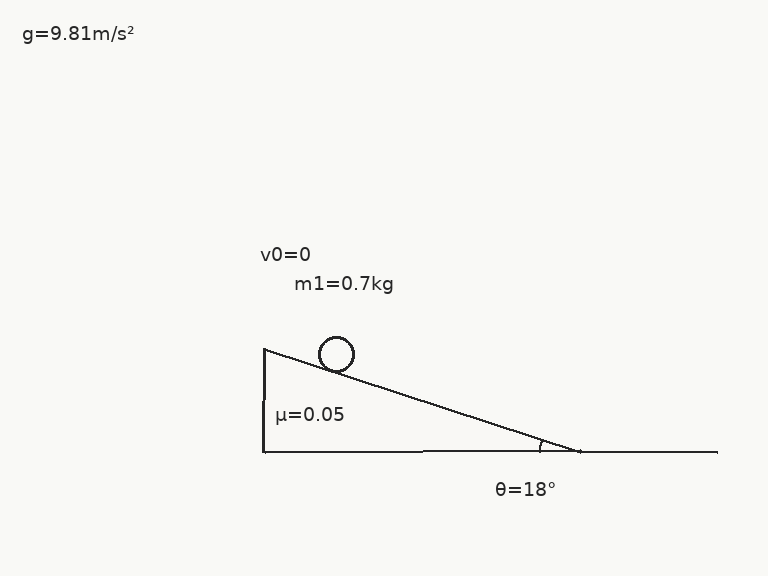ball: (316, 334, 356, 374)
ramp: (261, 347, 582, 454)
